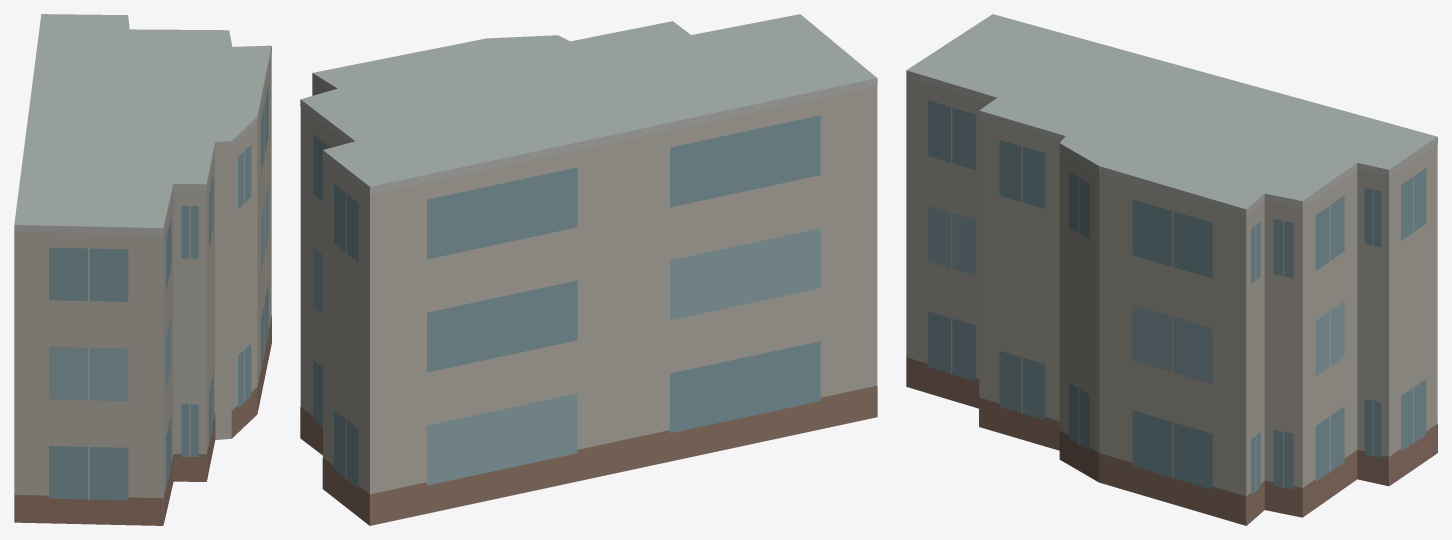
Rendered from survey-upis-32469352.glb.
The picture shows the model from 3 angles, left to right: view 1: azimuth 30°, elevation 25°; view 2: azimuth 150°, elevation 25°; view 3: azimuth 270°, elevation 25°; orthographic projection. The views are drawn at different scales.
Visible parts, largest first — view 1: survey-upis-32469352.tmp; view 2: survey-upis-32469352.tmp; view 3: survey-upis-32469352.tmp.
Part boxes in pixels (x1,y1,x2,y2): survey-upis-32469352.tmp: (14,14,271,525); survey-upis-32469352.tmp: (300,14,877,525); survey-upis-32469352.tmp: (906,14,1437,525).
Bounding box in the file's own units: 14.45 × 10.9 × 16.6.
